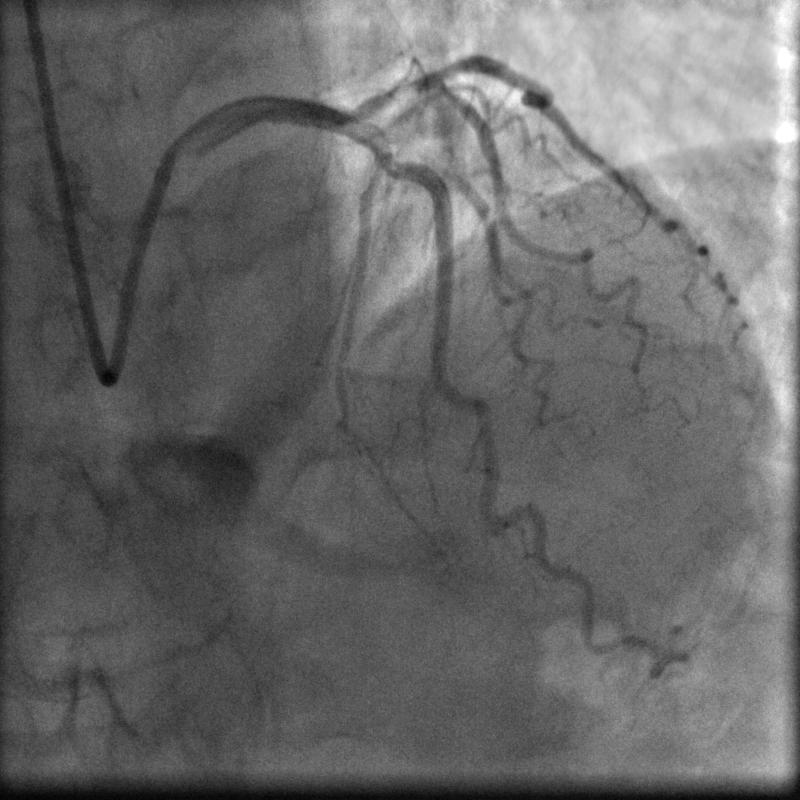Stenosis: (341, 78, 405, 116)
